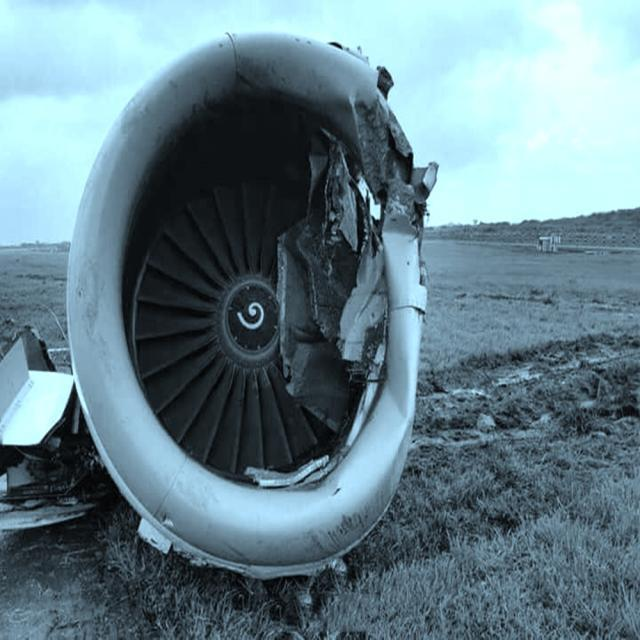dent: (381, 210, 424, 269), (383, 358, 413, 425)
